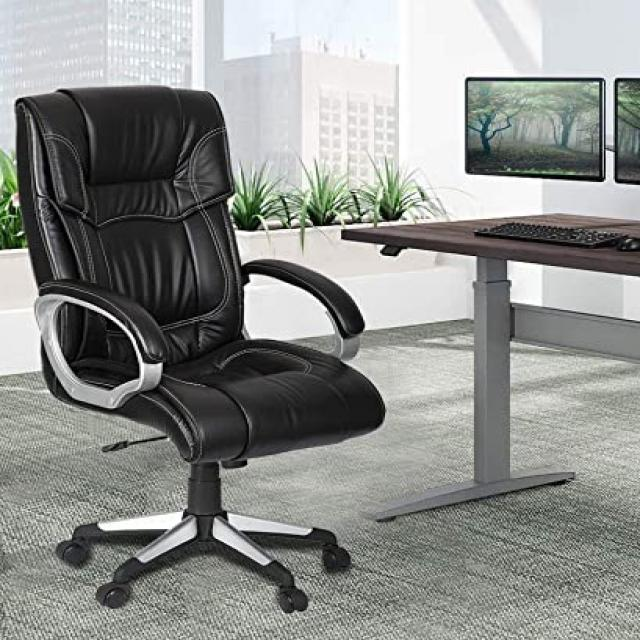chair: (8, 65, 403, 628)
